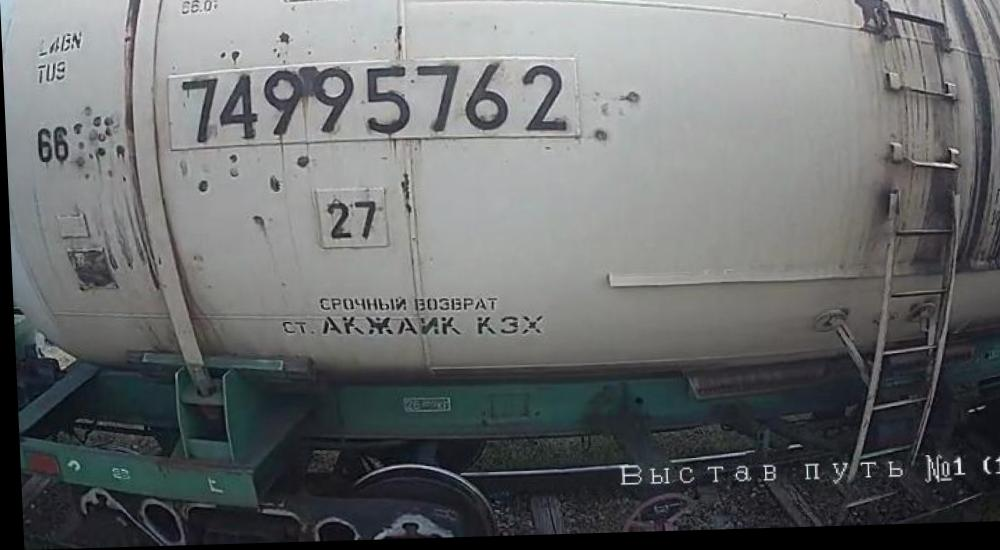Wagon-number: (172, 61, 569, 149)
